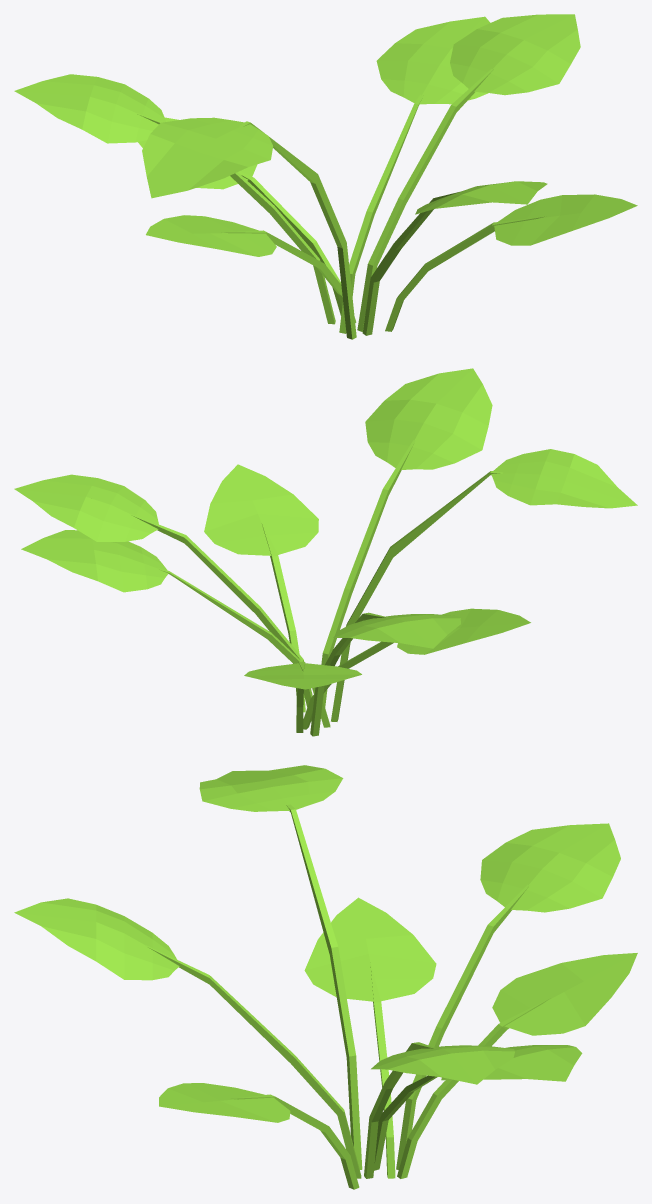
The model's file is WEEDS.glb.
3 renders of one model, top to bottom at view 1: azimuth 30°, elevation 25°; view 2: azimuth 150°, elevation 25°; view 3: azimuth 270°, elevation 25°, orthographic. The views are drawn at different scales.
Parts seen in each view (by area): view 1: Cube.014; view 2: Cube.014; view 3: Cube.014.
Boxes of the visible parts, x1,y1,x2,y2 form: Cube.014: (14,14,637,339); Cube.014: (14,368,637,736); Cube.014: (14,765,637,1189).
Bounding box in the file's own units: 0.8058 × 0.3879 × 0.7558.
